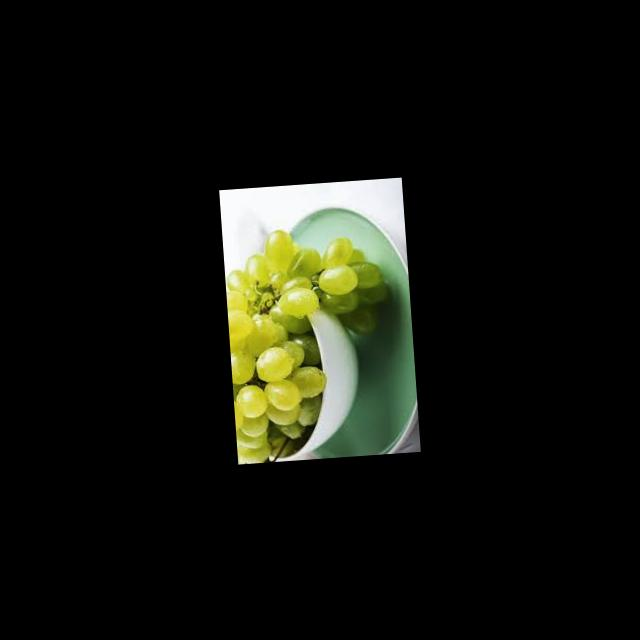grape: (222, 220, 399, 462)
